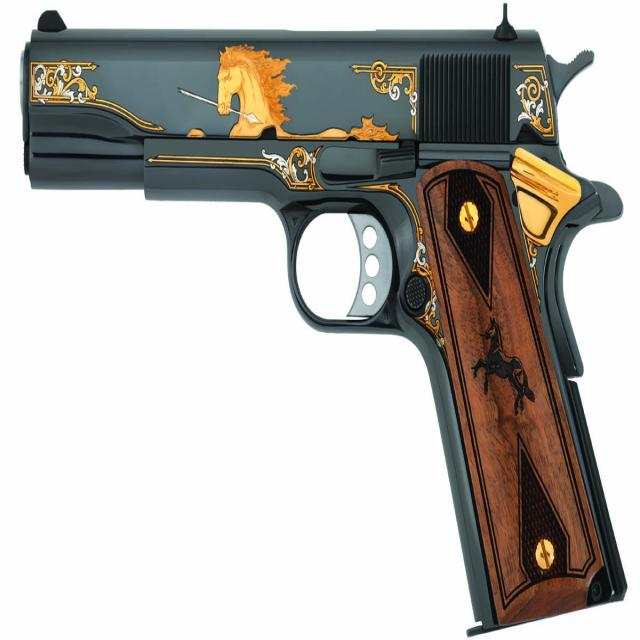handgun: (20, 11, 628, 634)
